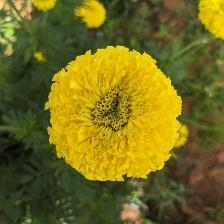marigold: (45, 43, 184, 186)
